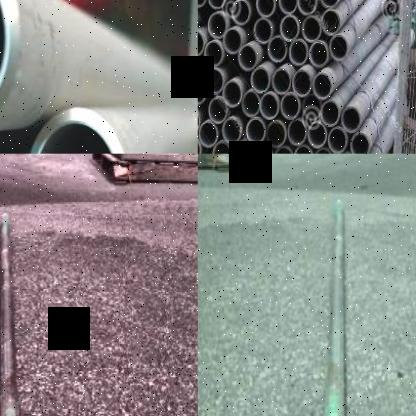pipe: (22, 104, 131, 154), (292, 70, 313, 97), (327, 127, 348, 154), (341, 106, 361, 134), (287, 118, 307, 146), (321, 9, 341, 36), (207, 12, 227, 39), (288, 39, 308, 66), (238, 44, 258, 71), (222, 117, 242, 144), (266, 120, 286, 147), (309, 41, 328, 69), (281, 92, 300, 120), (208, 96, 227, 124), (321, 99, 340, 127), (267, 36, 287, 62), (280, 15, 299, 42), (329, 34, 348, 61), (260, 93, 279, 120), (246, 118, 265, 145), (308, 121, 327, 148), (199, 121, 218, 148), (253, 19, 273, 44), (312, 74, 332, 99), (222, 82, 242, 107), (231, 0, 250, 26), (302, 16, 321, 42), (223, 28, 242, 54), (204, 41, 223, 67), (251, 67, 270, 93), (205, 68, 223, 95), (349, 131, 370, 154), (272, 69, 291, 94), (242, 91, 260, 117), (303, 94, 321, 120), (255, 0, 274, 17), (297, 0, 316, 15), (277, 0, 297, 14), (232, 140, 251, 154), (212, 141, 232, 154), (198, 78, 206, 104), (252, 144, 272, 154), (294, 144, 314, 154), (207, 0, 225, 9), (319, 0, 339, 8), (198, 30, 204, 56), (274, 146, 293, 154), (315, 148, 334, 154), (198, 0, 207, 7)
